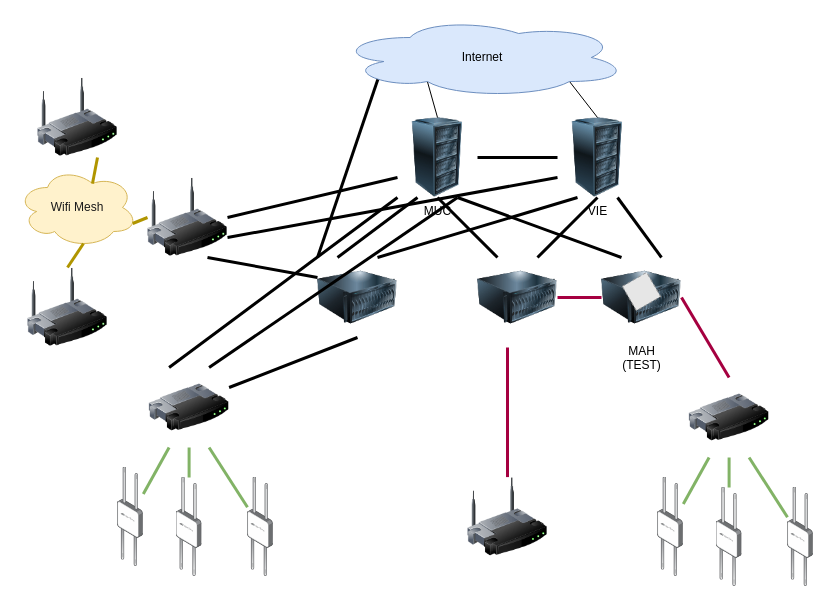
Some shapes in this 831 by 605 pixel diagram are drawn without their labels. Grey dashed boxes stand in for pictures. Each missing label, with the centre of its shape:
"HEL" belongs at point 357,297.
"NUE (TEST)" belongs at point 517,297.
